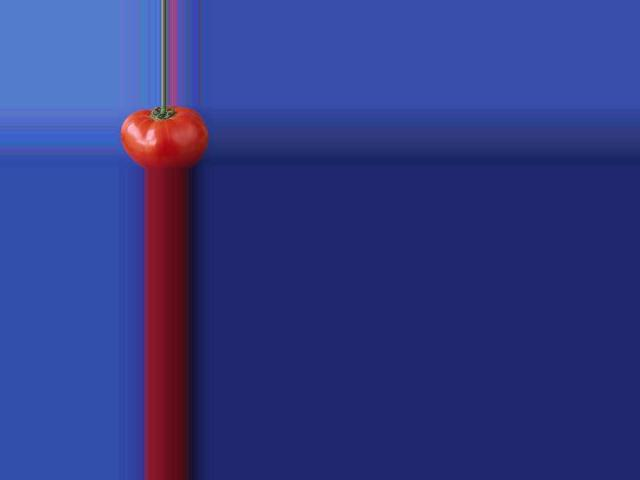tomato: (121, 105, 209, 170)
